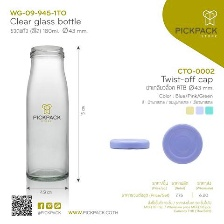bottle: (22, 38, 74, 183)
